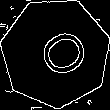O_SW: (23, 22, 88, 84)
